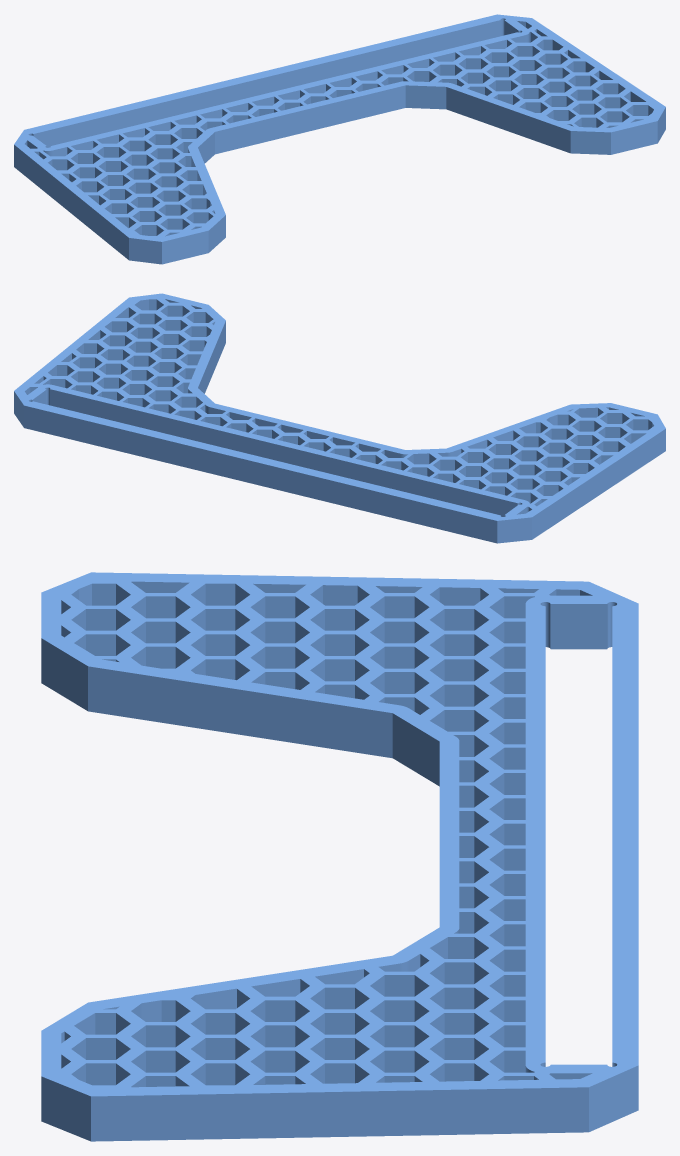
Rendered from monitor-stand.glb.
3 renders of one model, top to bottom at view 1: azimuth 30°, elevation 25°; view 2: azimuth 150°, elevation 25°; view 3: azimuth 270°, elevation 25°, orthographic. The views are drawn at different scales.
Visible parts, largest first — view 1: stand; view 2: stand; view 3: stand.
Part boxes in pixels (x1,y1,x2,y2): stand: (14,14,665,264); stand: (14,293,665,543); stand: (41,572,638,1141).
Size of the model in its own units: 249 by 10 by 120.
